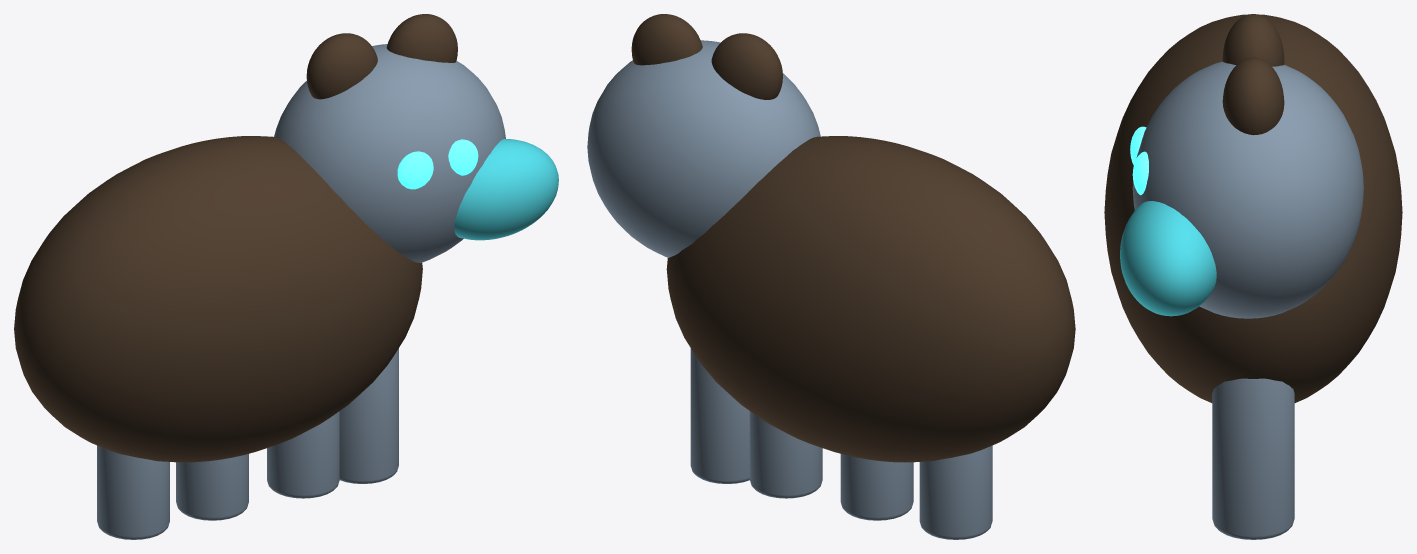
File: beast_v5.glb
3 views of the same model, side by side, from view 1: azimuth 30°, elevation 25°; view 2: azimuth 150°, elevation 25°; view 3: azimuth 270°, elevation 25° (orthographic). The views are drawn at different scales.
Visible parts, largest first — view 1: BEAR_BODY_SECONDARY, BEAR_HEAD_PRIMARY, BEAR_MUZZLE_ACCENT, BEAR_LEG_PRIMARY, BEAR_LEG_PRIMARY.003, BEAR_LEG_PRIMARY.002, BEAR_LEG_PRIMARY.001, BEAR_EAR_SECONDARY, BEAR_EAR_SECONDARY.001, EYE_EMISSIVE, EYE_EMISSIVE.001; view 2: BEAR_BODY_SECONDARY, BEAR_HEAD_PRIMARY, BEAR_LEG_PRIMARY, BEAR_LEG_PRIMARY.003, BEAR_LEG_PRIMARY.002, BEAR_LEG_PRIMARY.001, BEAR_EAR_SECONDARY, BEAR_EAR_SECONDARY.001; view 3: BEAR_BODY_SECONDARY, BEAR_HEAD_PRIMARY, BEAR_LEG_PRIMARY.003, BEAR_MUZZLE_ACCENT, BEAR_EAR_SECONDARY.001, BEAR_EAR_SECONDARY, EYE_EMISSIVE.001.
Boxes of the visible parts, left/top/right/bottom form: BEAR_BODY_SECONDARY: left=14, top=136, right=422, bottom=462; BEAR_HEAD_PRIMARY: left=274, top=44, right=505, bottom=262; BEAR_MUZZLE_ACCENT: left=454, top=139, right=558, bottom=240; BEAR_LEG_PRIMARY: left=97, top=445, right=169, bottom=539; BEAR_LEG_PRIMARY.003: left=339, top=348, right=398, bottom=483; BEAR_LEG_PRIMARY.002: left=267, top=411, right=339, bottom=498; BEAR_LEG_PRIMARY.001: left=176, top=454, right=248, bottom=520; BEAR_EAR_SECONDARY: left=306, top=33, right=377, bottom=99; BEAR_EAR_SECONDARY.001: left=386, top=14, right=457, bottom=62; EYE_EMISSIVE: left=397, top=151, right=433, bottom=189; EYE_EMISSIVE.001: left=448, top=139, right=478, bottom=175; BEAR_BODY_SECONDARY: left=666, top=136, right=1075, bottom=462; BEAR_HEAD_PRIMARY: left=587, top=40, right=820, bottom=257; BEAR_LEG_PRIMARY: left=919, top=445, right=992, bottom=539; BEAR_LEG_PRIMARY.003: left=690, top=348, right=749, bottom=483; BEAR_LEG_PRIMARY.002: left=749, top=411, right=822, bottom=498; BEAR_LEG_PRIMARY.001: left=840, top=454, right=913, bottom=520; BEAR_EAR_SECONDARY: left=711, top=33, right=782, bottom=99; BEAR_EAR_SECONDARY.001: left=631, top=14, right=702, bottom=65; BEAR_BODY_SECONDARY: left=1104, top=14, right=1402, bottom=402; BEAR_HEAD_PRIMARY: left=1132, top=61, right=1363, bottom=318; BEAR_LEG_PRIMARY.003: left=1212, top=378, right=1294, bottom=539; BEAR_MUZZLE_ACCENT: left=1120, top=201, right=1216, bottom=316; BEAR_EAR_SECONDARY.001: left=1222, top=57, right=1284, bottom=135; BEAR_EAR_SECONDARY: left=1222, top=14, right=1284, bottom=66; EYE_EMISSIVE.001: left=1132, top=151, right=1148, bottom=195.
Bounding box in the file's own units: 2.5 × 2.13 × 1.16.
